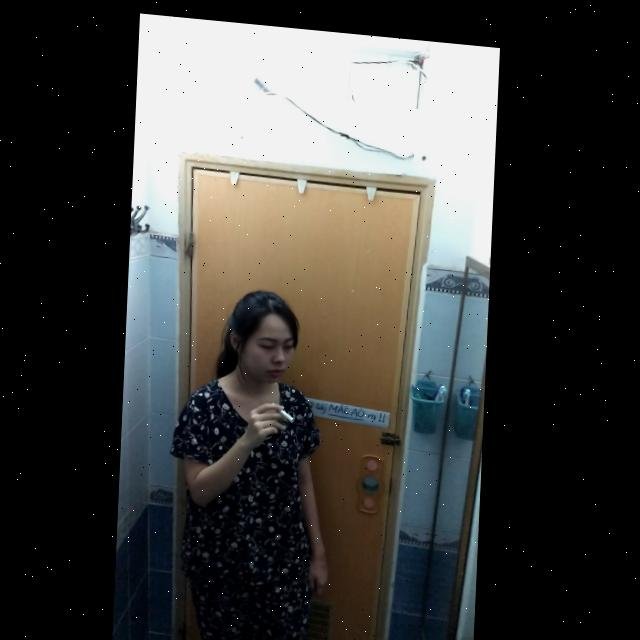cigarette: (275, 397, 298, 417)
